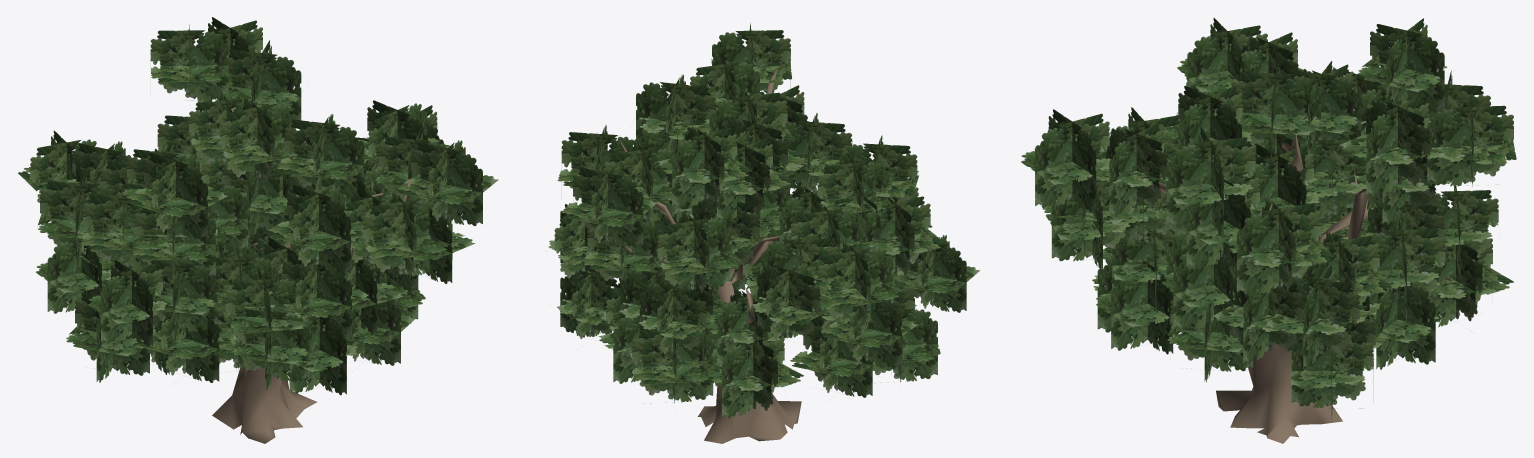
Rendered from quercia.glb.
The picture shows the model from 3 angles, left to right: view 1: azimuth 30°, elevation 25°; view 2: azimuth 150°, elevation 25°; view 3: azimuth 270°, elevation 25°; orthographic projection. The views are drawn at different scales.
Parts seen in each view (by area): view 1: foglie, legno; view 2: foglie, legno; view 3: foglie, legno.
Boxes of the visible parts, x1,y1,x2,y2 form: foglie: (18, 17, 498, 395); legno: (117, 107, 411, 443); foglie: (548, 23, 979, 418); legno: (619, 66, 854, 443); foglie: (1021, 18, 1516, 419); legno: (1097, 114, 1460, 443).
Bounding box in the file's own units: 11.7 × 9.82 × 11.84.
2 materials, 1 textured.
